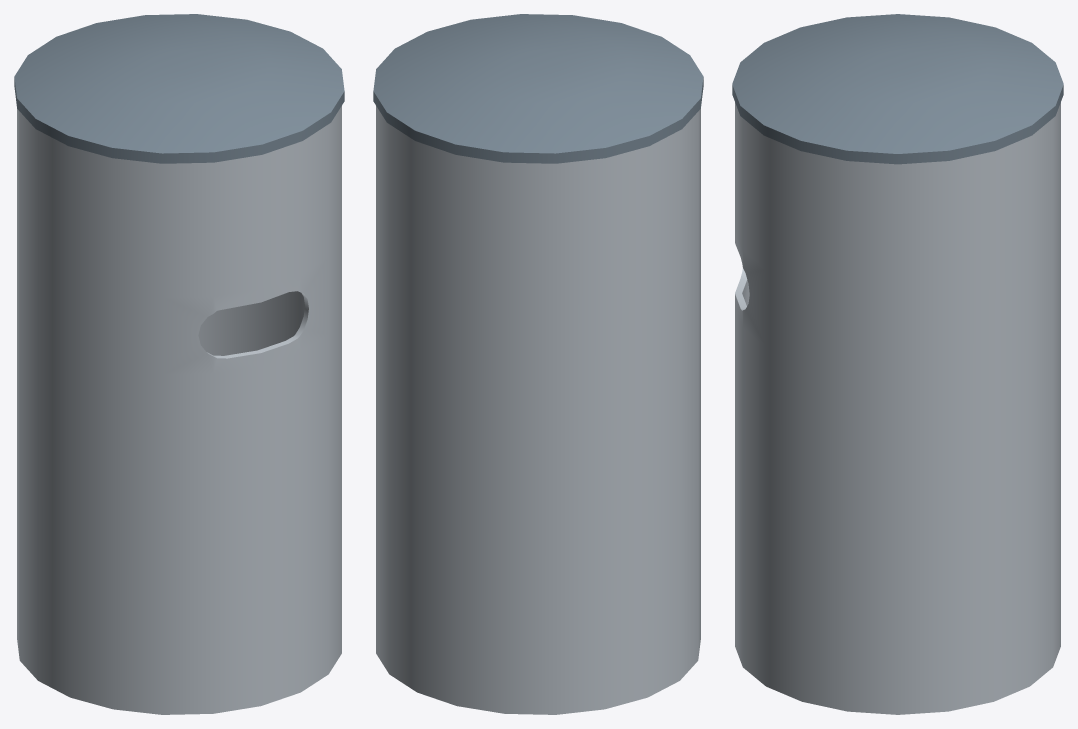
Rendered from TrashCan.fbx.
3 renders of one model, left to right at view 1: azimuth 30°, elevation 25°; view 2: azimuth 150°, elevation 25°; view 3: azimuth 270°, elevation 25°, orthographic.
Visible parts, largest first — view 1: TrashCan_Body, TrashCan_Lid; view 2: TrashCan_Body, TrashCan_Lid; view 3: TrashCan_Body, TrashCan_Lid.
Boxes of the visible parts, x1,y1,x2,y2 form: TrashCan_Body: (17, 106, 341, 714); TrashCan_Lid: (14, 14, 344, 163); TrashCan_Body: (376, 106, 700, 714); TrashCan_Lid: (373, 14, 703, 163); TrashCan_Body: (735, 102, 1060, 714); TrashCan_Lid: (732, 14, 1063, 164).
Size of the model in its own units: 0.468 by 0.9091 by 0.468.
